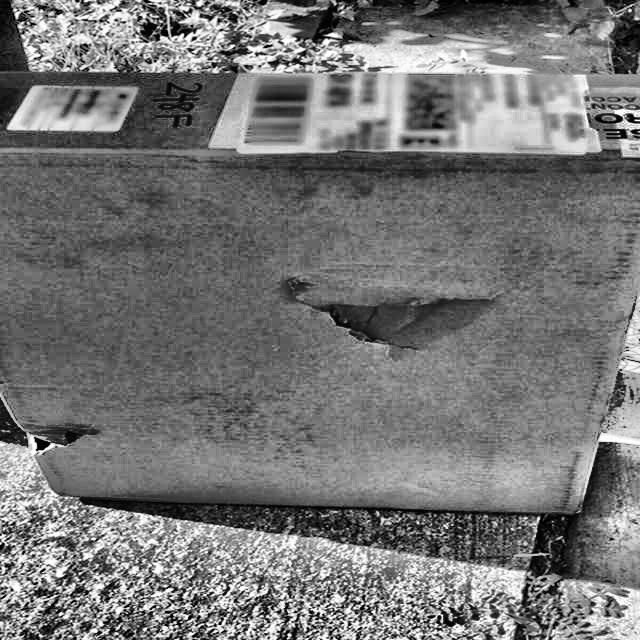box: (0, 69, 639, 525)
hole: (287, 273, 509, 375), (19, 409, 105, 469)
